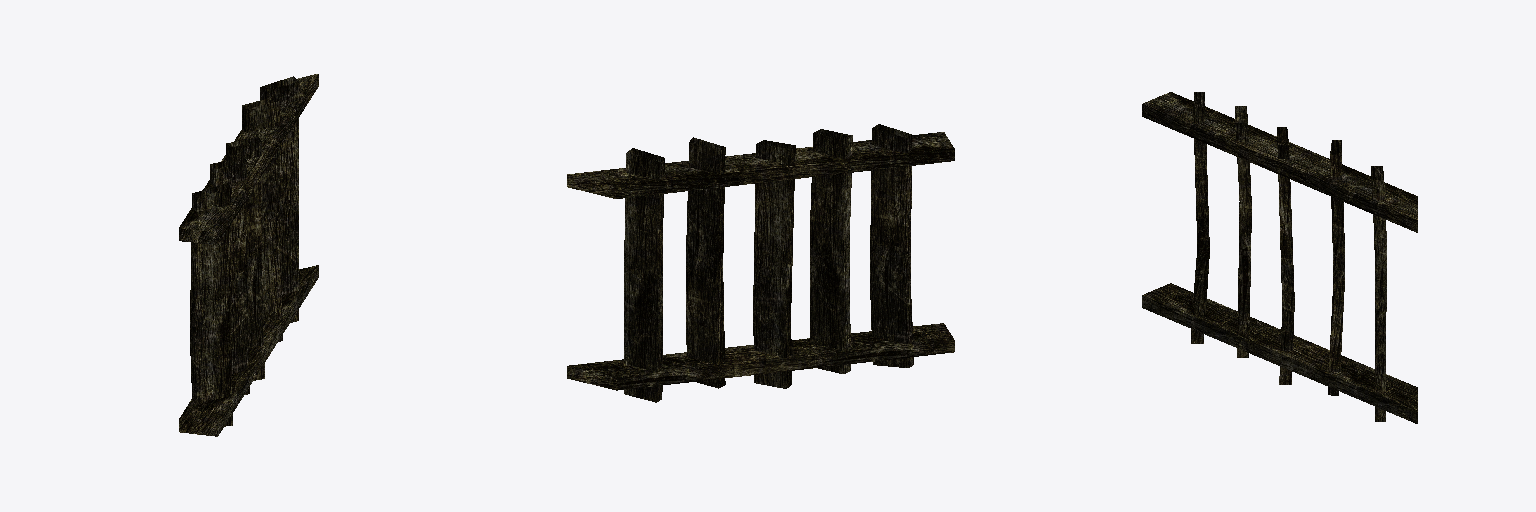
3 renders of one model, left to right at view 1: azimuth 30°, elevation 25°; view 2: azimuth 150°, elevation 25°; view 3: azimuth 270°, elevation 25°, orthographic.
Parts seen in each view (by area): view 1: Tri Ex_De_Docks_Steps_01 0; view 2: Tri Ex_De_Docks_Steps_01 0; view 3: Tri Ex_De_Docks_Steps_01 0.
Boxes of the visible parts, x1=… form: Tri Ex_De_Docks_Steps_01 0: x1=179, y1=74, x2=318, y2=436; Tri Ex_De_Docks_Steps_01 0: x1=567, y1=124, x2=954, y2=402; Tri Ex_De_Docks_Steps_01 0: x1=1142, y1=92, x2=1417, y2=423.
Bounding box in the file's own units: 172 × 156 × 156.
1 materials, 1 textured.